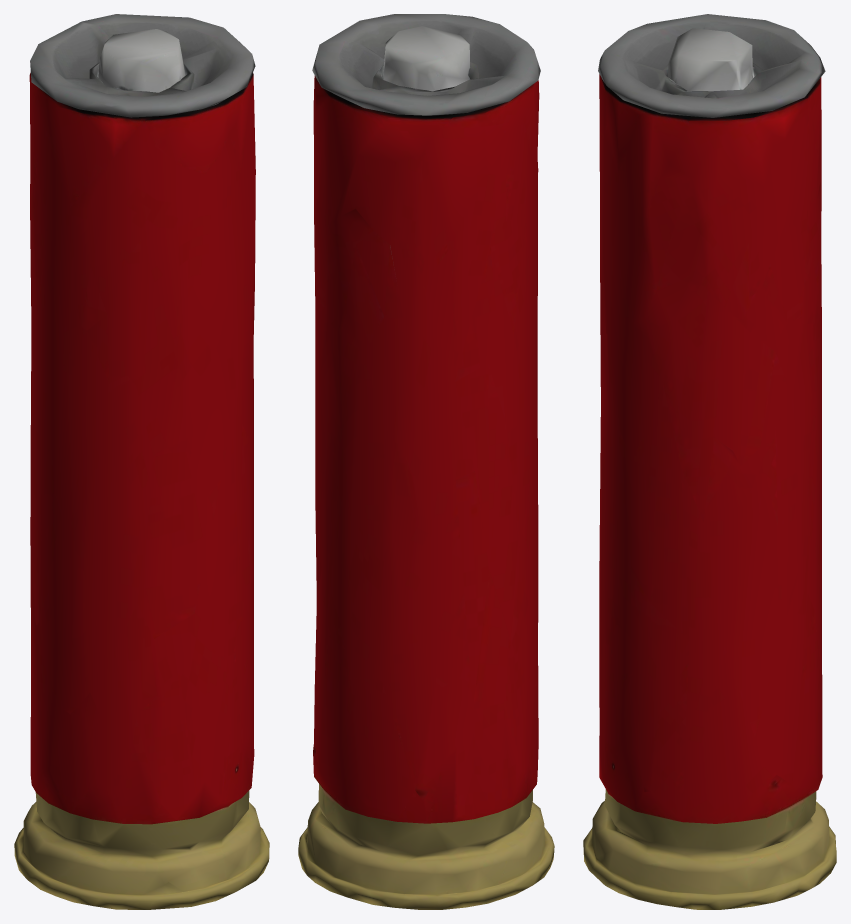
Rendered from flare_round.f9cd19982b.glb.
The picture shows the model from 3 angles, left to right: view 1: azimuth 30°, elevation 25°; view 2: azimuth 150°, elevation 25°; view 3: azimuth 270°, elevation 25°; orthographic projection.
Visible parts, largest first — view 1: flare_round; view 2: flare_round; view 3: flare_round.
Boxes of the visible parts, left/top/right/bottom form: flare_round: left=14, top=14, right=269, bottom=909; flare_round: left=298, top=14, right=554, bottom=909; flare_round: left=583, top=14, right=836, bottom=909.
Bounding box in the file's own units: 0.02 × 0.07 × 0.0198.
Materials: 1 (1 with a texture image).
